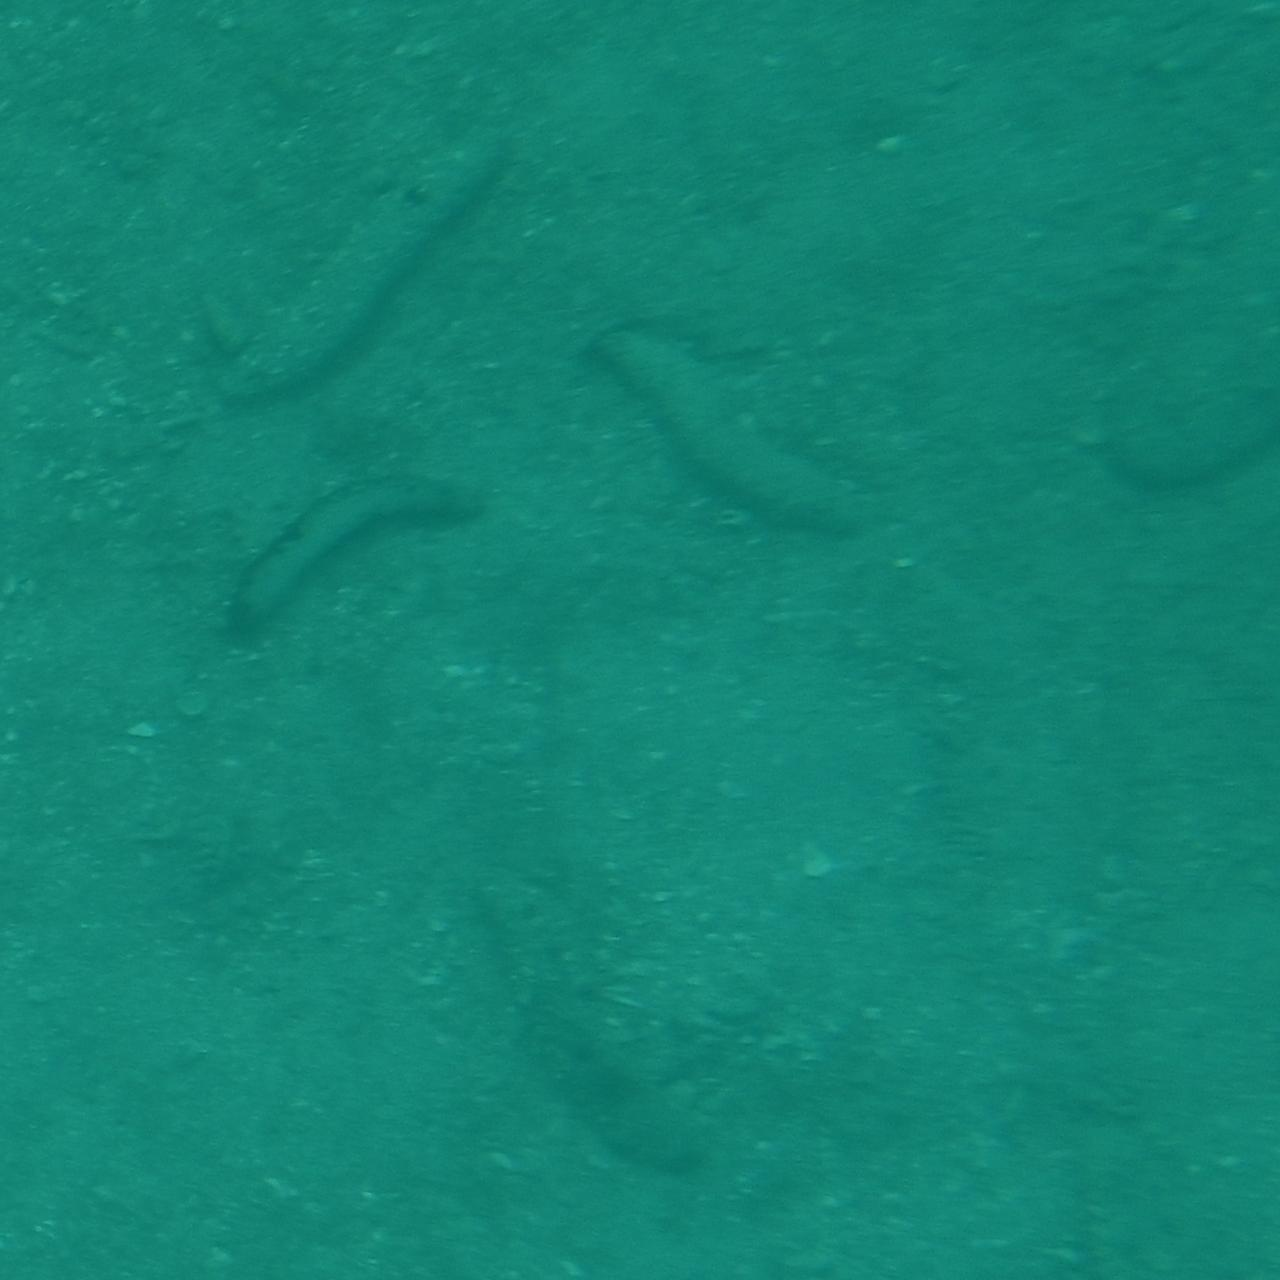Holothuria tubulosa: (210, 113, 526, 420), (469, 840, 719, 1189), (617, 302, 866, 570), (226, 464, 501, 646), (1081, 342, 1279, 524)
